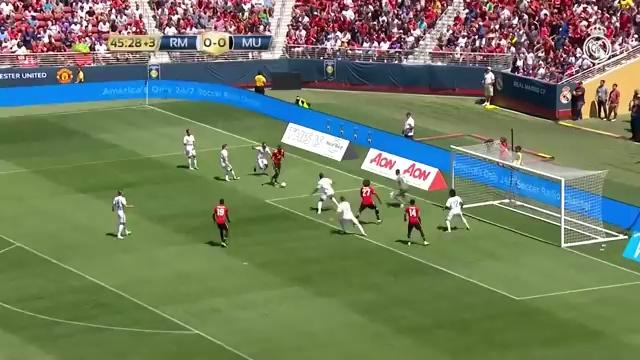football: (280, 182, 286, 186)
player: (337, 196, 366, 235), (404, 199, 428, 245), (311, 173, 338, 213), (356, 179, 381, 222), (445, 189, 469, 231), (112, 190, 132, 238), (212, 199, 230, 247), (390, 169, 408, 206), (220, 144, 238, 180), (183, 129, 197, 169), (270, 145, 284, 185), (253, 142, 270, 173)
